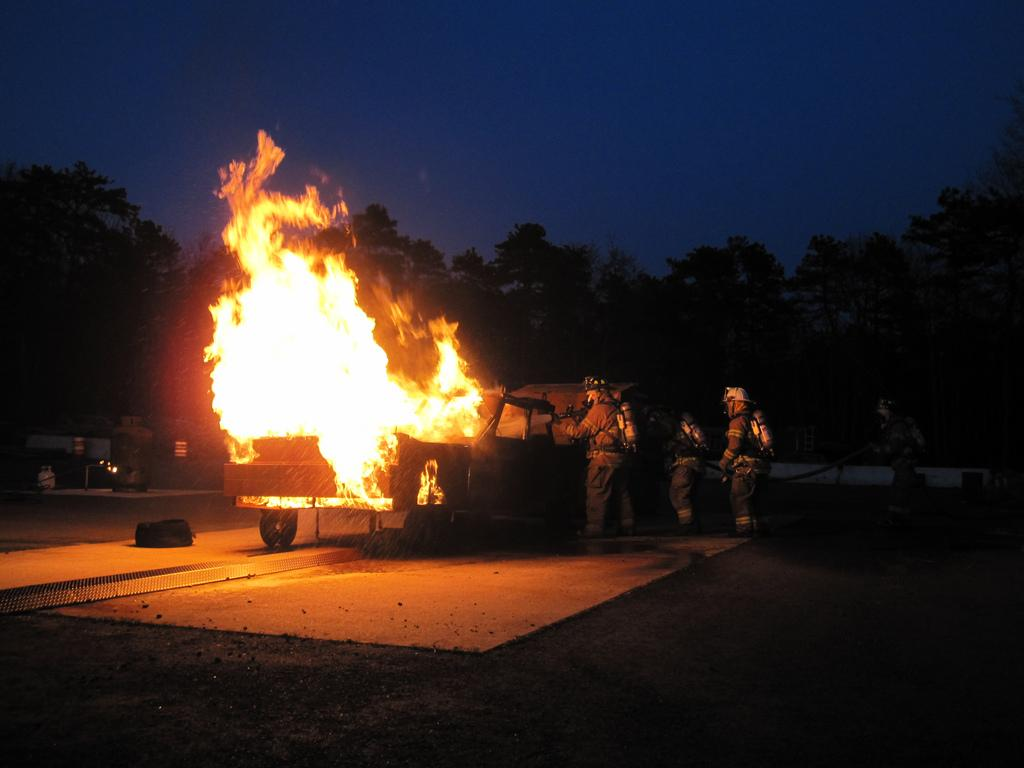fire: (220, 288, 428, 454)
